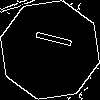I: (25, 25, 73, 50)
